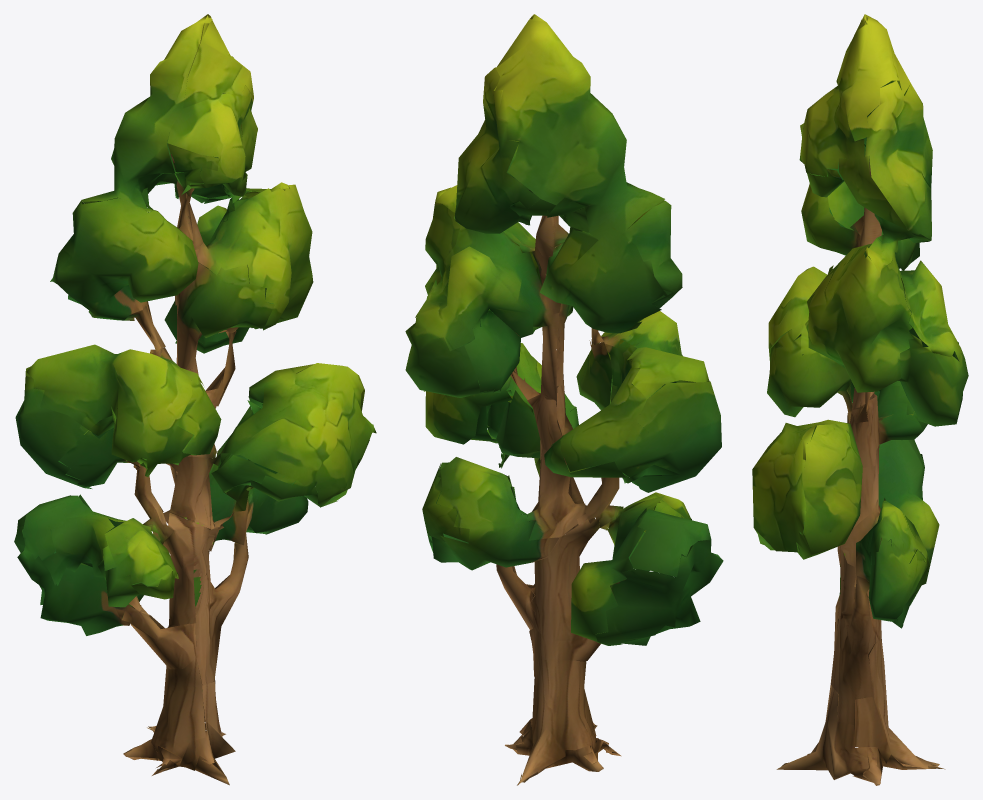
The picture shows the model from 3 angles, left to right: view 1: azimuth 30°, elevation 25°; view 2: azimuth 150°, elevation 25°; view 3: azimuth 270°, elevation 25°; orthographic projection. The views are drawn at different scales.
Visible parts, largest first — view 1: quad; view 2: quad; view 3: quad.
Boxes of the visible parts, x1,y1,x2,y2 form: quad: [14, 14, 376, 785]; quad: [405, 14, 723, 785]; quad: [752, 14, 968, 785].
Bounding box in the file's own units: 420 × 900 × 230.
Materials: 1 (1 with a texture image).
